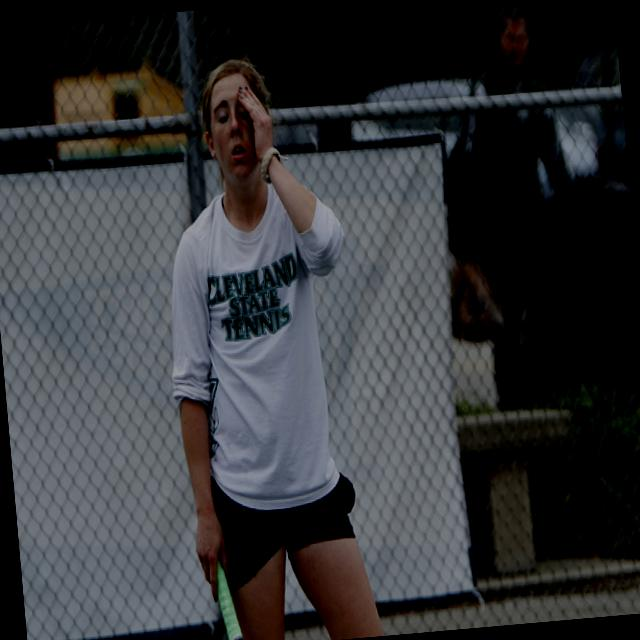Vehicle: (347, 65, 597, 193), (554, 43, 626, 159)
